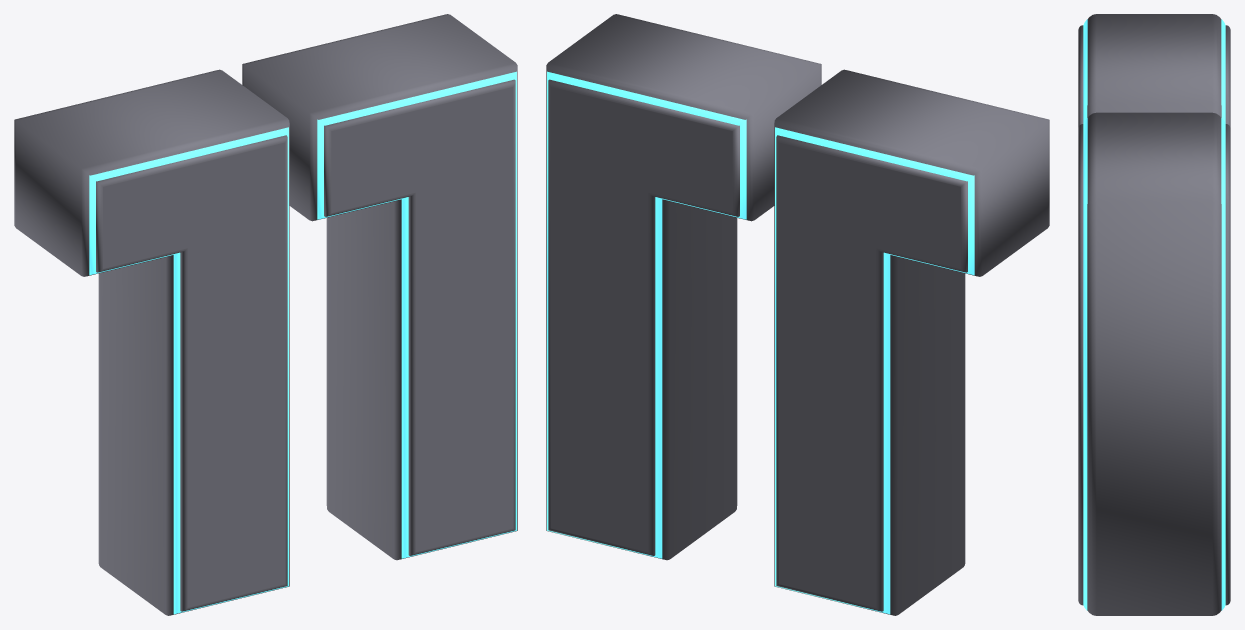
The model's file is Number 11.fbx.
3 views of the same model, side by side, from view 1: azimuth 30°, elevation 25°; view 2: azimuth 150°, elevation 25°; view 3: azimuth 270°, elevation 25° (orthographic). The views are drawn at different scales.
Parts seen in each view (by area): view 1: N_1_smaller, N_1_side, N_1_border; view 2: N_1_smaller, N_1_side, N_1_border; view 3: N_1_side, N_1_smaller, N_1_border.
Part boxes in pixels (x1,y1,x2,y2): N_1_smaller: (96, 79, 515, 611); N_1_side: (14, 14, 517, 615); N_1_border: (89, 71, 516, 614); N_1_smaller: (548, 79, 967, 611); N_1_side: (546, 14, 1049, 615); N_1_border: (547, 71, 974, 614); N_1_side: (1087, 14, 1221, 615); N_1_smaller: (1078, 25, 1230, 605); N_1_border: (1083, 19, 1225, 610).
Bounding box in the file's own units: 53.7 × 55.16 × 18.4.
